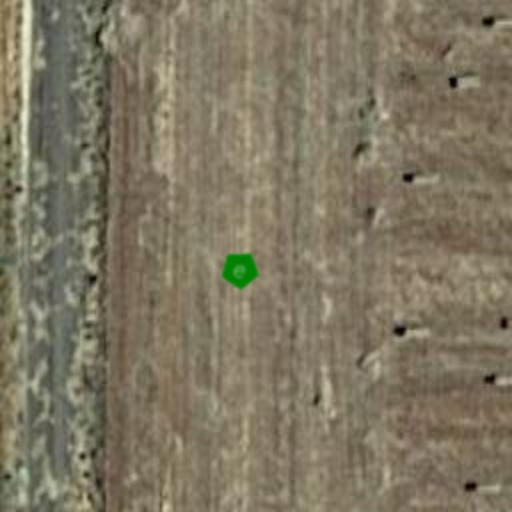pentagon: (214, 244, 266, 296)
